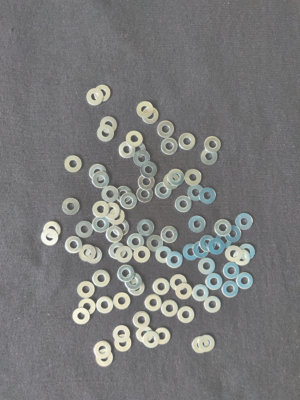circle: (99, 115, 119, 134), (160, 225, 180, 244), (235, 211, 254, 231), (179, 133, 198, 152), (133, 149, 152, 168), (189, 215, 208, 234), (166, 251, 185, 270), (197, 258, 216, 277), (96, 349, 115, 368), (184, 168, 204, 186), (107, 208, 127, 226), (137, 219, 157, 237), (142, 107, 161, 125), (94, 83, 112, 102), (204, 135, 223, 153), (201, 148, 220, 166), (118, 140, 136, 159), (187, 183, 205, 202), (64, 156, 83, 174), (183, 243, 201, 262), (154, 246, 173, 264), (127, 233, 146, 251), (133, 246, 151, 265), (62, 198, 81, 216), (85, 247, 104, 265), (43, 221, 62, 239), (236, 272, 255, 290), (205, 273, 223, 292), (199, 334, 217, 353), (177, 306, 196, 324), (161, 299, 179, 318), (153, 277, 171, 296), (132, 311, 151, 329), (78, 298, 96, 317), (161, 137, 178, 157), (107, 243, 127, 260), (116, 245, 133, 265), (192, 335, 209, 355), (91, 270, 111, 287), (72, 308, 92, 325), (97, 125, 115, 143), (168, 168, 186, 186), (115, 186, 133, 204), (175, 196, 193, 214), (214, 219, 232, 237), (146, 235, 164, 253), (65, 236, 83, 254), (204, 296, 222, 314), (115, 334, 133, 352), (119, 193, 138, 210), (93, 172, 112, 189), (102, 184, 119, 203), (112, 219, 131, 236), (75, 221, 94, 238), (41, 229, 60, 246), (193, 283, 210, 302), (129, 278, 146, 297), (77, 281, 96, 298), (97, 296, 114, 315), (93, 342, 112, 359), (137, 99, 153, 119), (126, 131, 146, 147), (135, 187, 155, 203), (88, 164, 108, 180), (87, 88, 104, 106), (157, 120, 175, 137), (129, 141, 146, 159), (141, 161, 158, 179), (199, 188, 217, 205), (216, 232, 234, 249), (201, 235, 218, 253), (194, 241, 211, 259), (92, 216, 109, 234), (79, 244, 96, 262), (225, 245, 243, 262), (223, 262, 241, 279), (170, 274, 188, 291), (145, 294, 162, 312), (126, 272, 143, 290), (114, 293, 131, 311), (143, 331, 160, 349), (154, 327, 171, 345), (113, 325, 131, 342), (93, 201, 110, 218), (106, 226, 123, 243), (240, 243, 257, 260), (223, 281, 240, 298), (157, 182, 173, 200), (164, 172, 180, 190), (226, 225, 242, 243), (117, 265, 135, 281), (136, 326, 152, 344), (210, 238, 226, 255), (235, 249, 252, 265), (176, 283, 192, 300), (105, 203, 120, 220), (138, 175, 155, 189)
